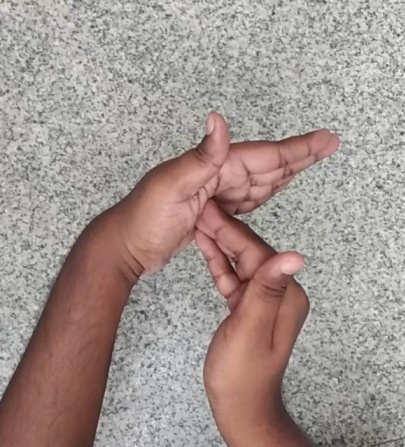ga: (84, 94, 348, 392)
